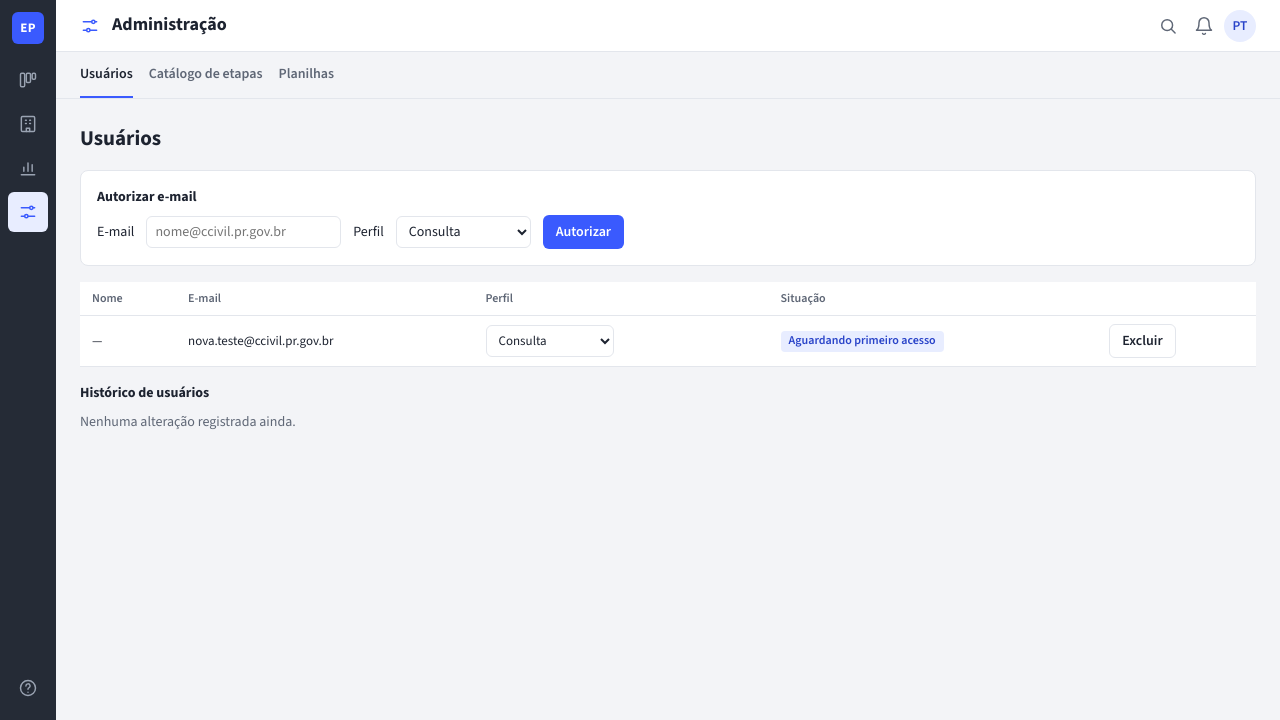
Test: exclui uma autorização aguardando
The width and height of the screenshot is (1280, 720).
Expected: the table is shown, [80, 282, 1256, 367]
Click the button "Excluir": (1142, 341) [1109, 324, 1176, 358]
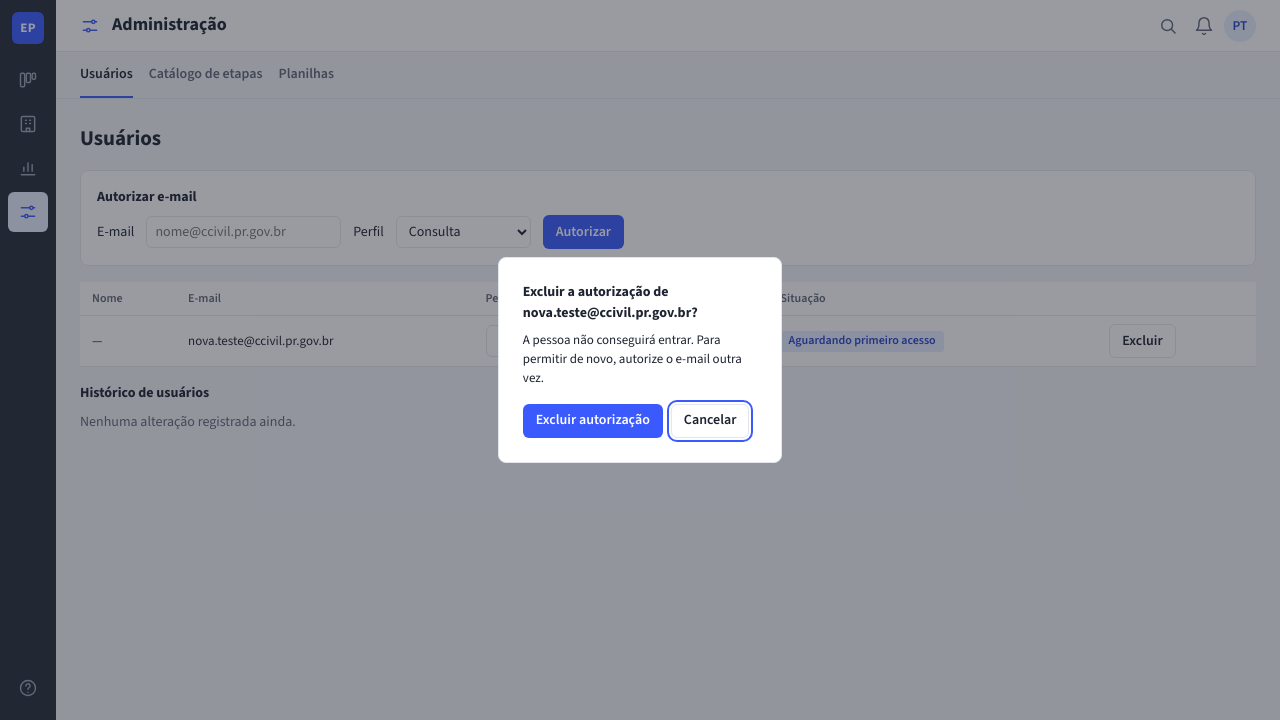
Click the button "Excluir autorização": (593, 421) [523, 404, 663, 438]
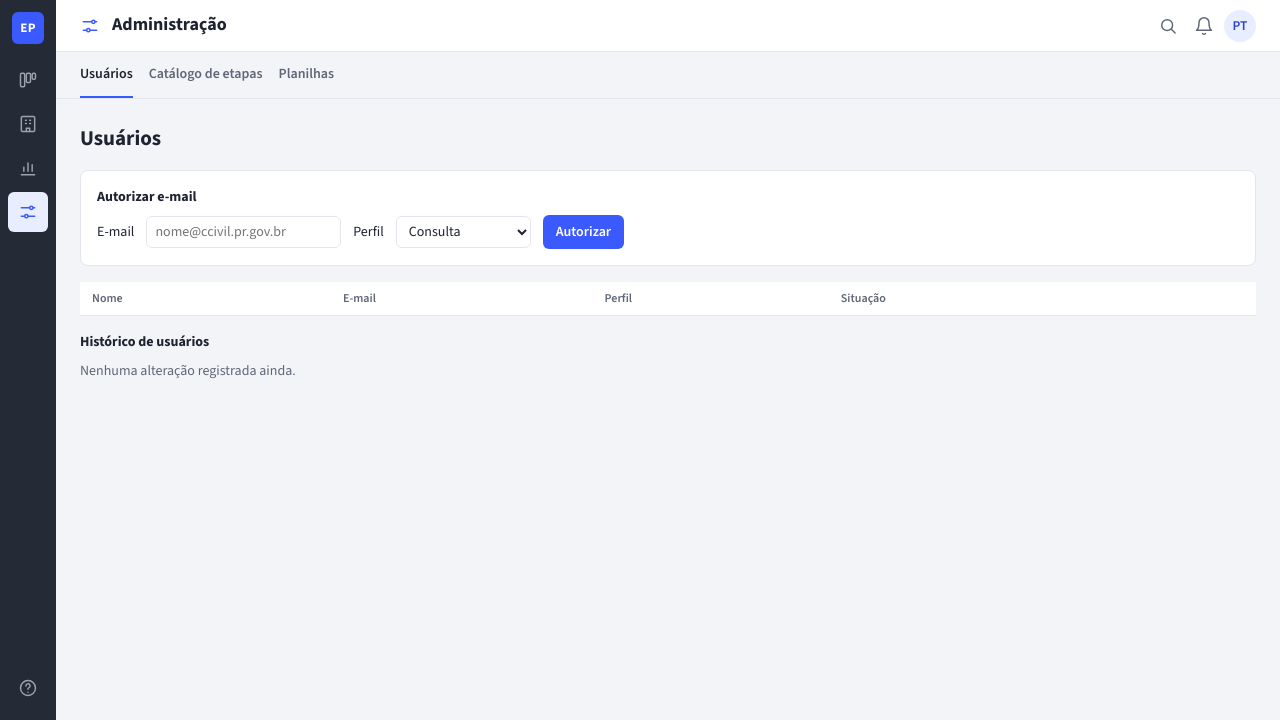
Now the text "nova.teste@ccivil.pr.gov.br" is gone
